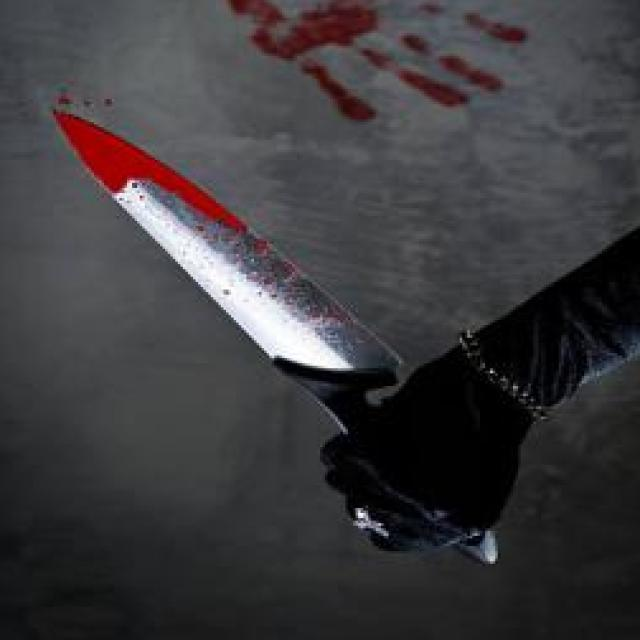knife: (43, 105, 506, 574)
